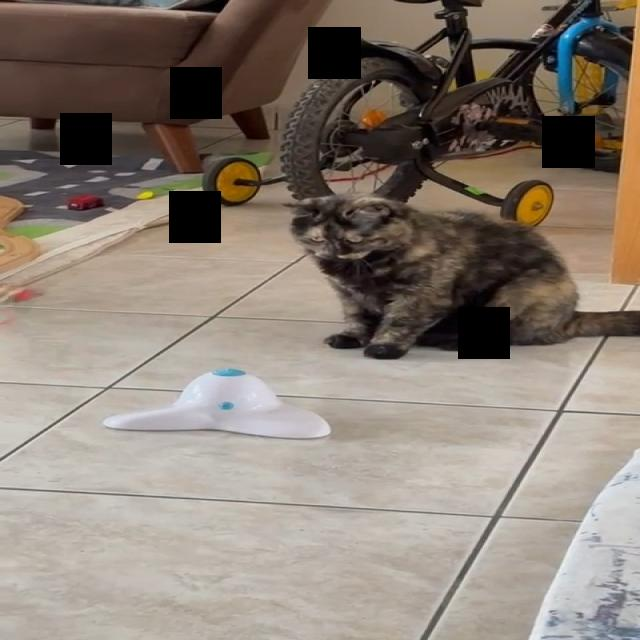authorized: (281, 191, 639, 359)
